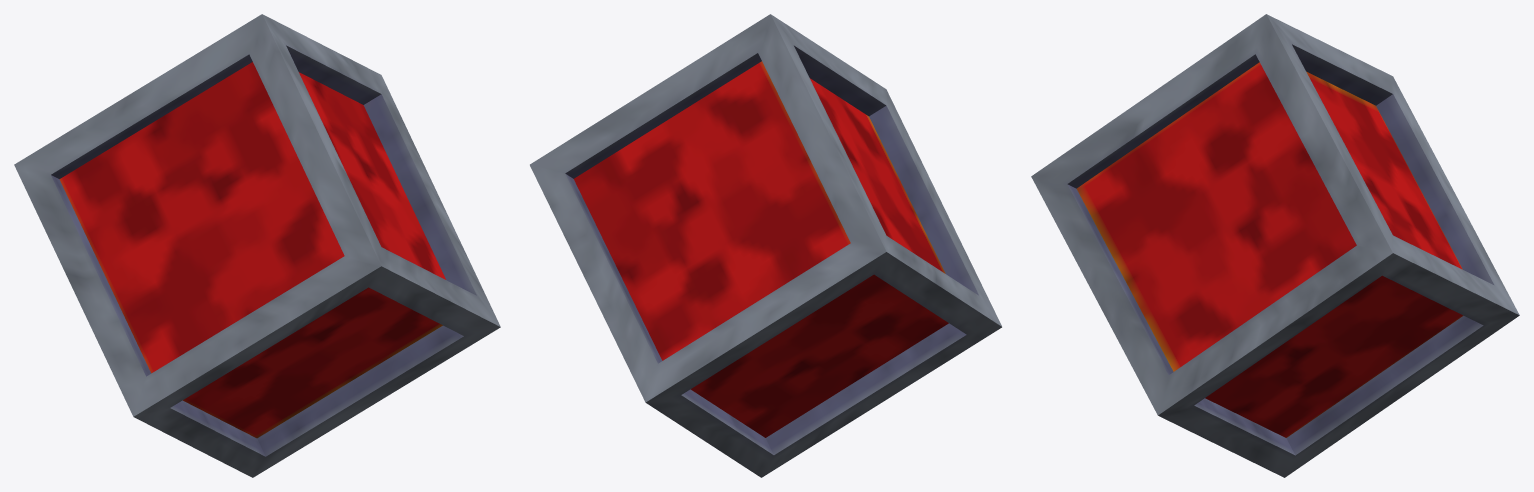
File: SM_CubeItemRed.fbx
3 views of the same model, side by side, from view 1: azimuth 30°, elevation 25°; view 2: azimuth 150°, elevation 25°; view 3: azimuth 270°, elevation 25° (orthographic). The views are drawn at different scales.
Visible parts, largest first — view 1: SM_CubeItemRed; view 2: SM_CubeItemRed; view 3: SM_CubeItemRed.
Part boxes in pixels (x1,y1,x2,y2): SM_CubeItemRed: (14,14,500,477); SM_CubeItemRed: (530,14,1001,477); SM_CubeItemRed: (1031,14,1519,477).
Size of the model in its own units: 132 by 162 by 155.
